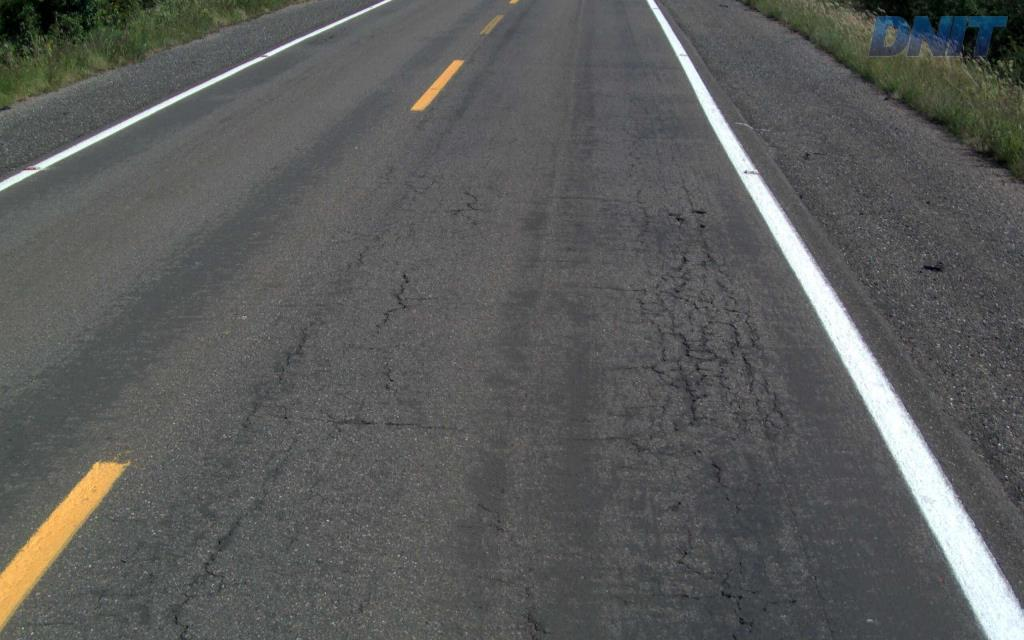crack: (669, 329, 718, 363)
